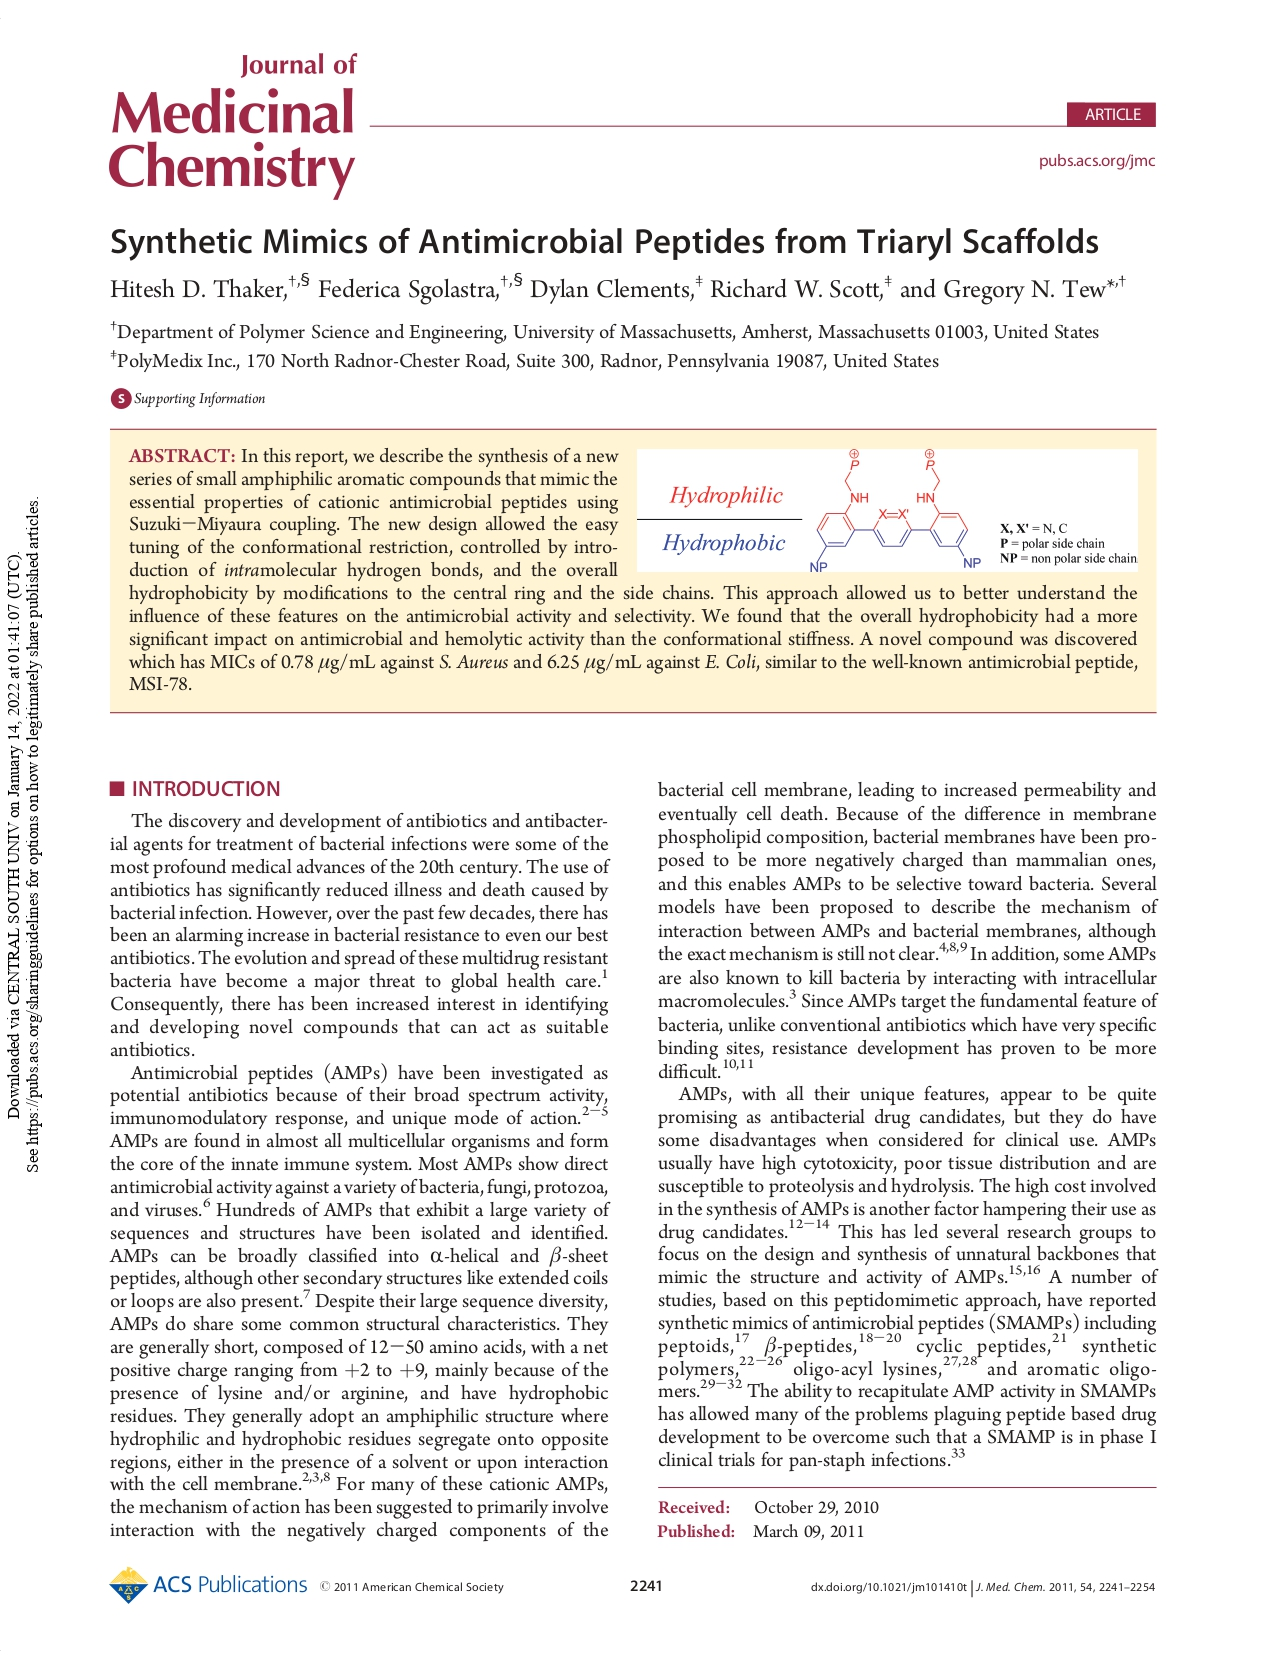exist_molecular: (805, 446, 983, 575)
